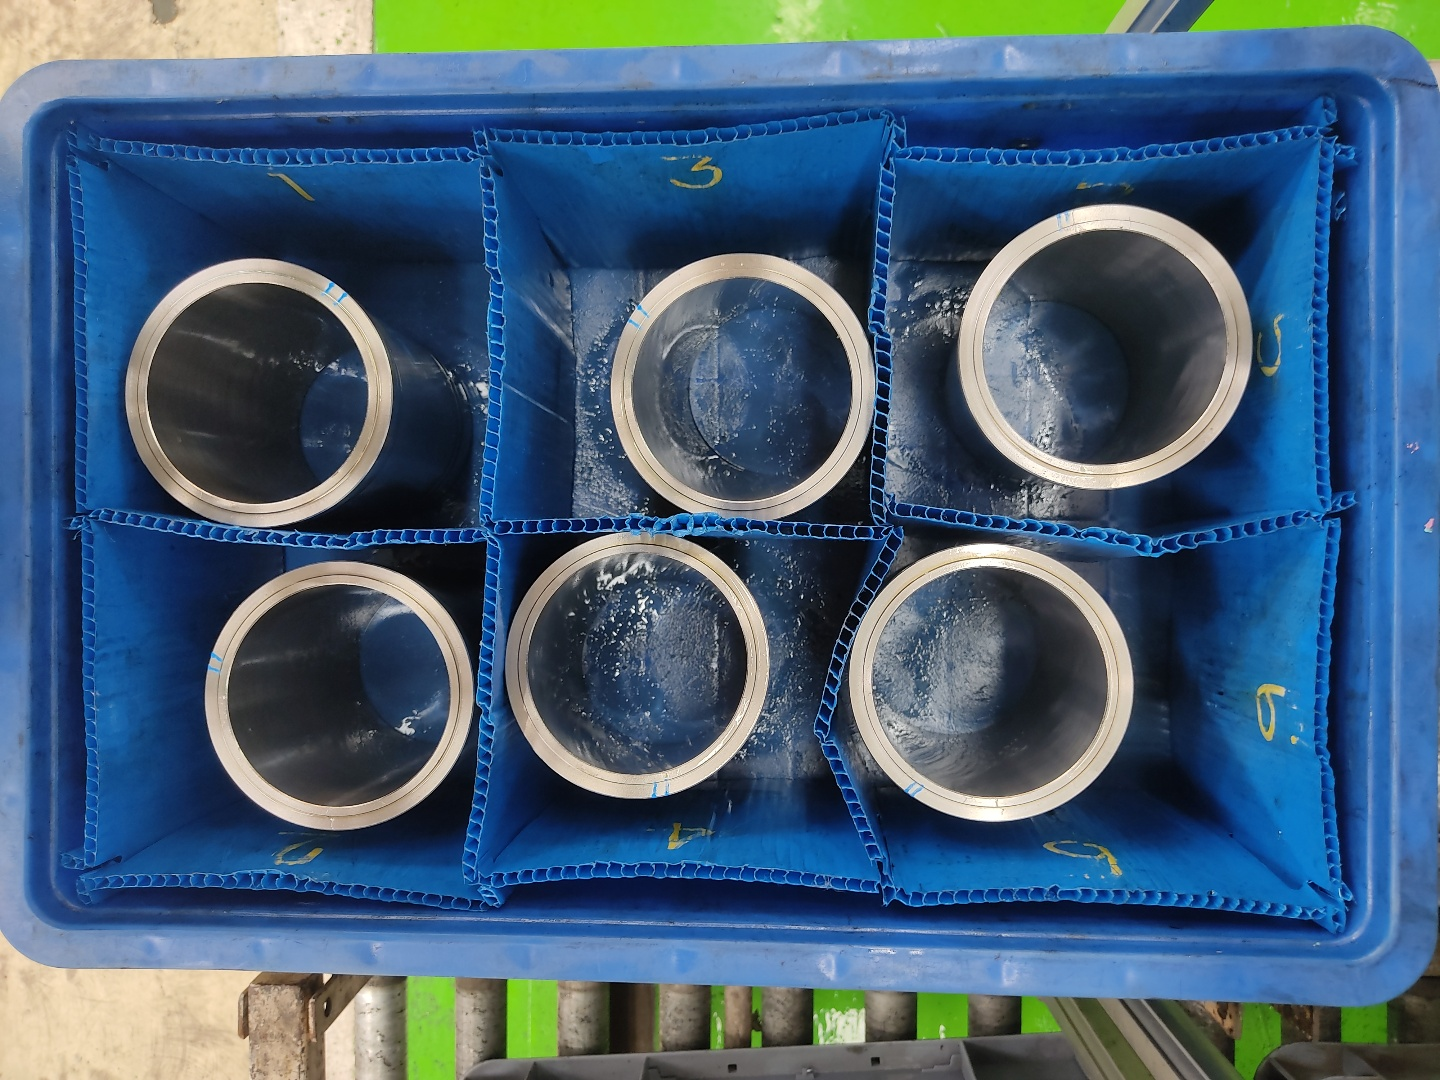cylinder: (955, 202, 1259, 493), (846, 540, 1140, 827), (120, 252, 399, 534), (198, 559, 482, 836), (604, 245, 879, 525), (501, 531, 774, 803)
